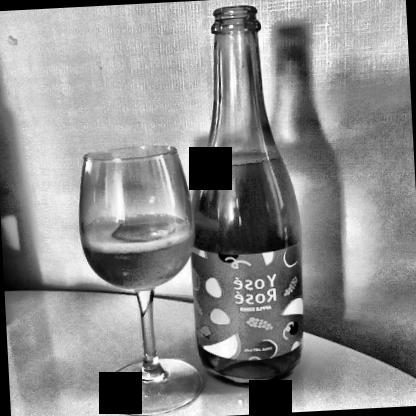yoserose: (194, 252, 304, 355)
